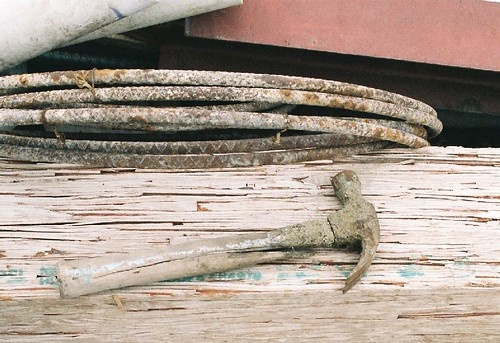hammer: (45, 170, 386, 298)
